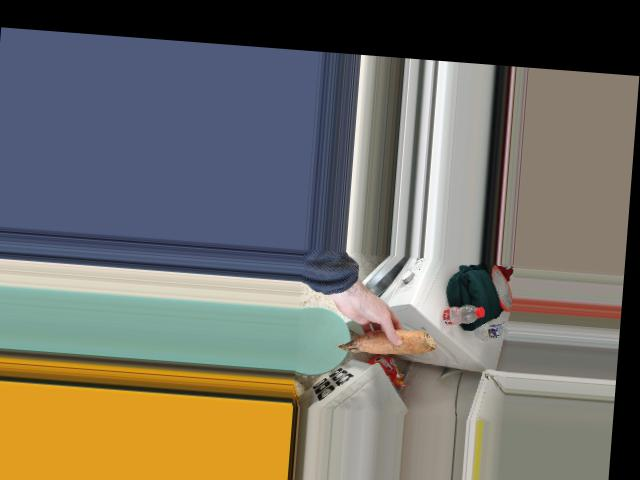sweet_potato: (339, 319, 441, 365)
